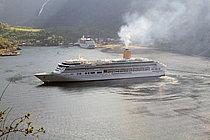Ship: (33, 48, 172, 90)
